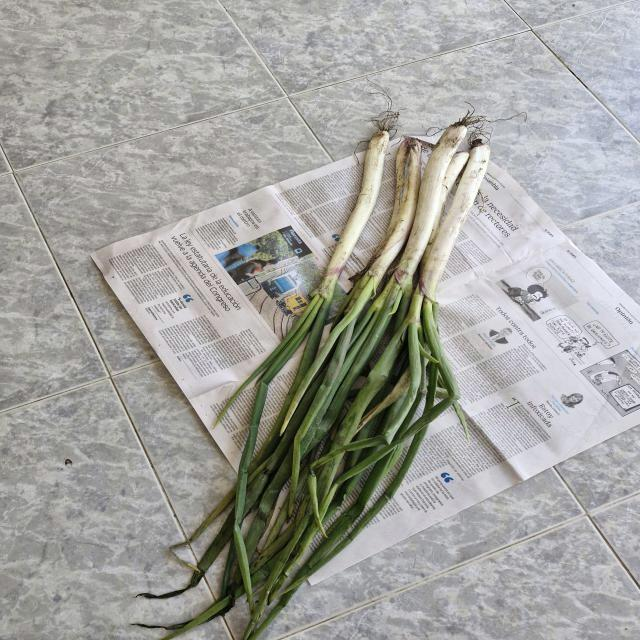green_onion: (178, 106, 506, 593)
